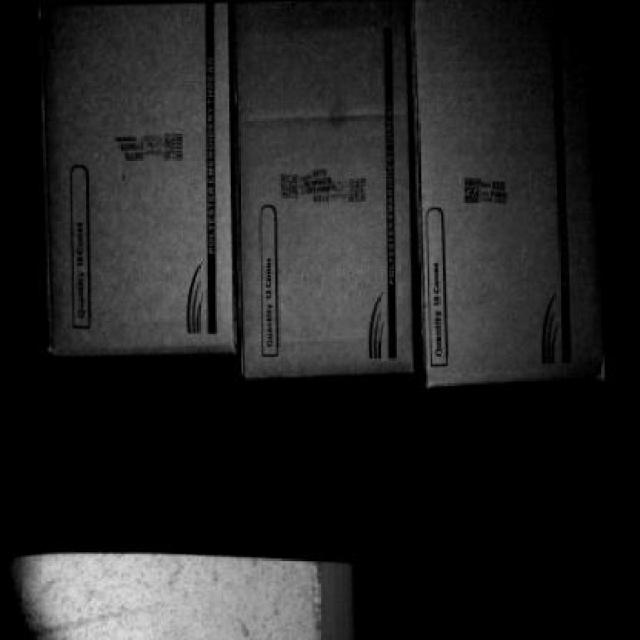cardboxes: (415, 1, 611, 378), (43, 7, 235, 356), (238, 3, 414, 372)
